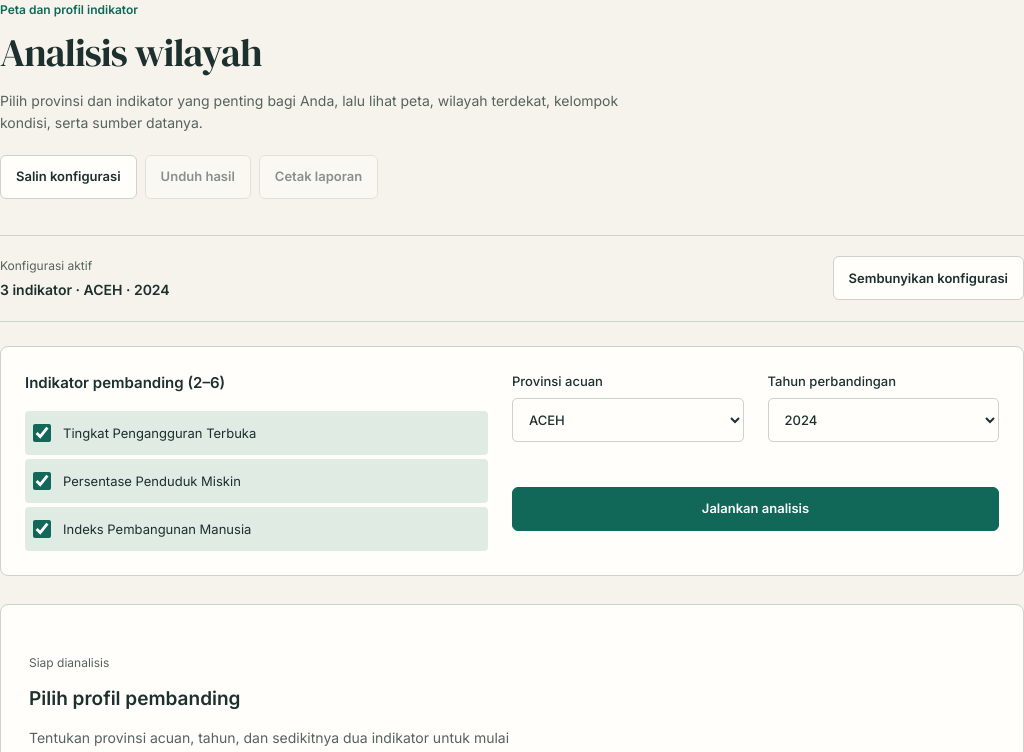
Test: RegionalAnalytics › renders a reproducible, accessible map and evidence report
What coordinates should you click on to do the following:
click the button "Jalankan analisis"
I would click on:
 (756, 509)
Its box is [512,487,999,531].
(page scrolled)
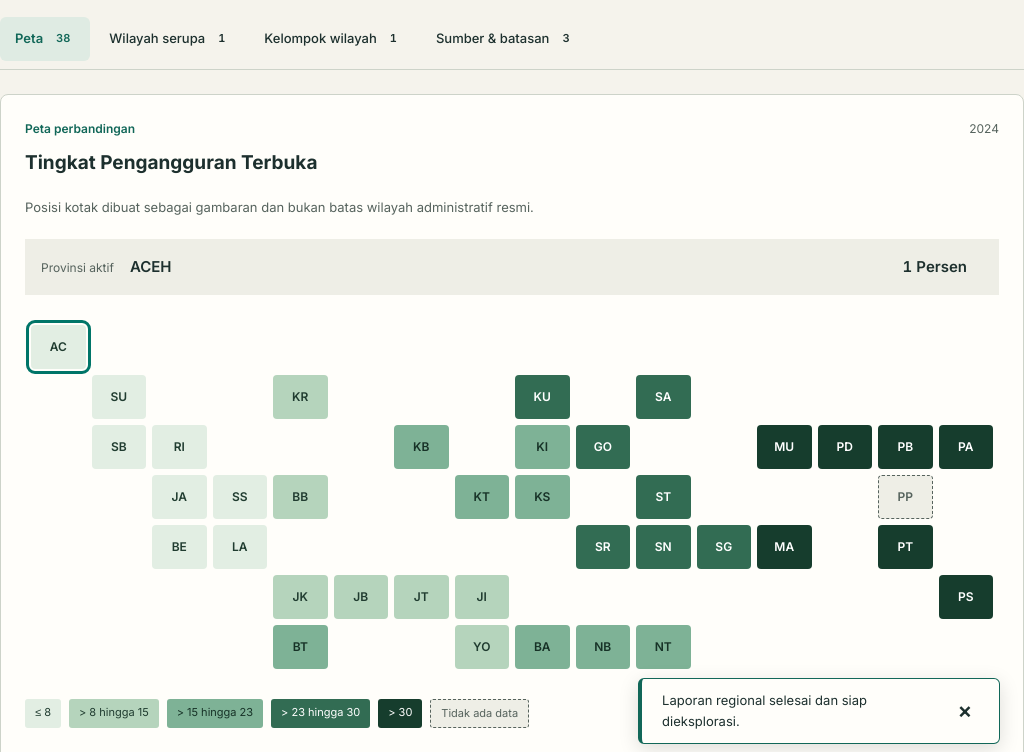
Check: the text "bukan batas wilayah administratif resmi" is shown, box [25,199,534,215]
What coordinates should you click on to do the following:
click the button with aria-label "PROVINSI 2, 2 Persen"
I would click on:
 (119, 396)
Its box is [92,374,146,418].
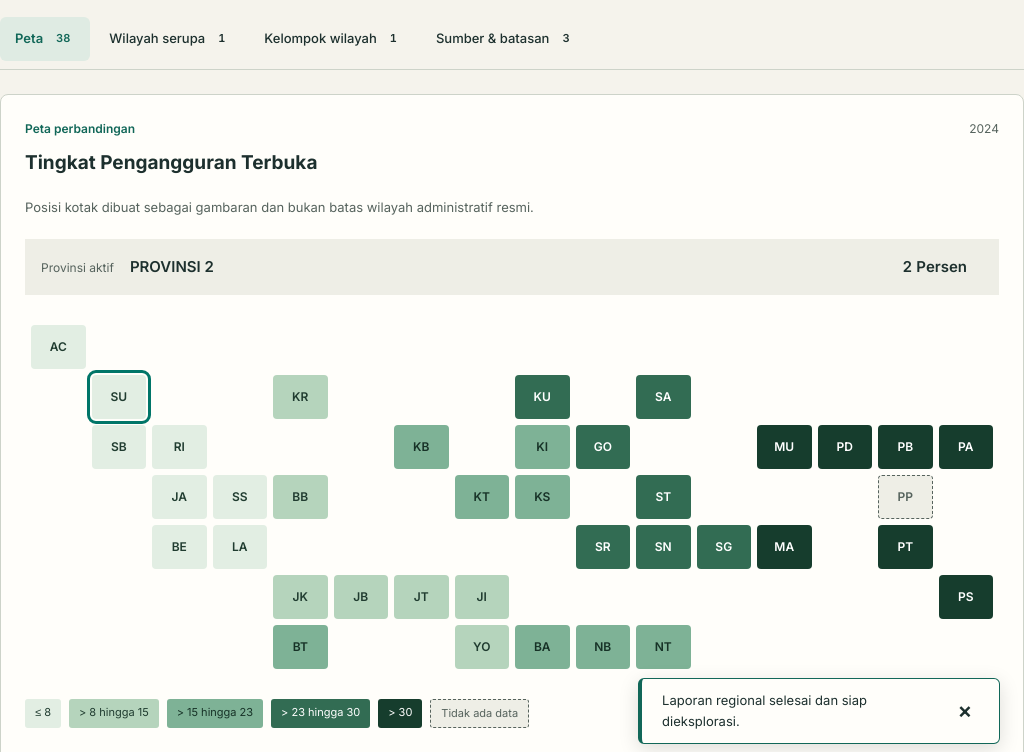
What coordinates should you click on to do the following:
click the tab "Wilayah serupa 1"
I would click on:
 (170, 39)
Its box is [94,17,245,61].
(page scrolled)
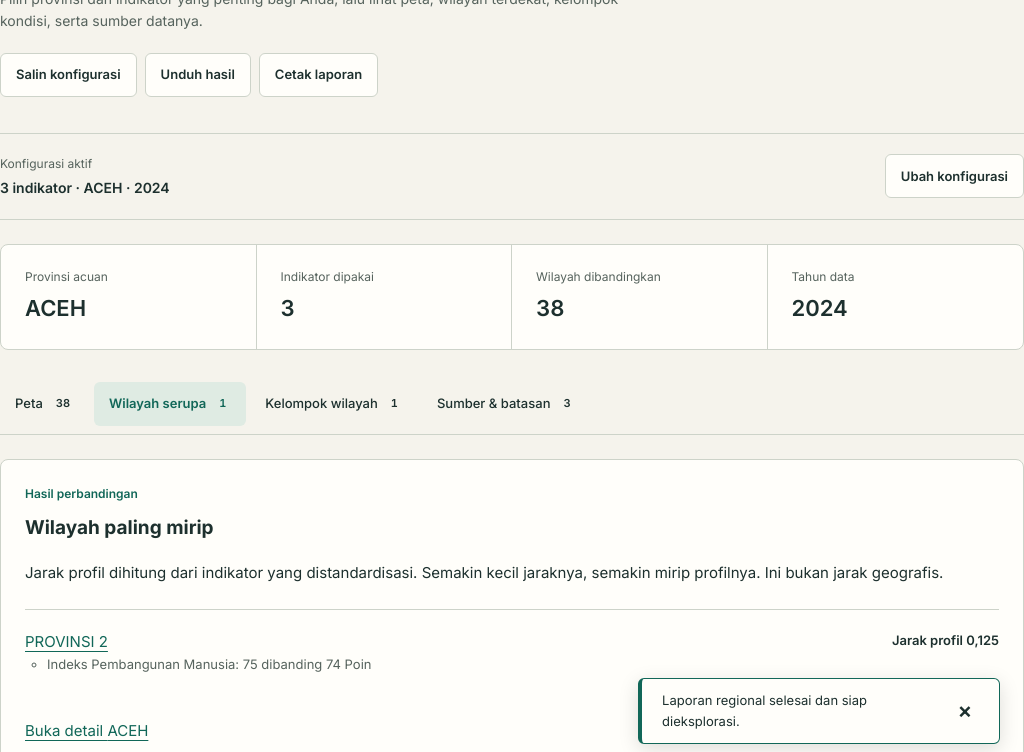
Check: the text "Jarak profil 0,125" is shown, box [892,630,999,654]
What coordinates should you click on to do the following:
click the tab "Kelompok wilayah 1"
I would click on:
 (334, 404)
Its box is [250,382,418,426].
(page scrolled)
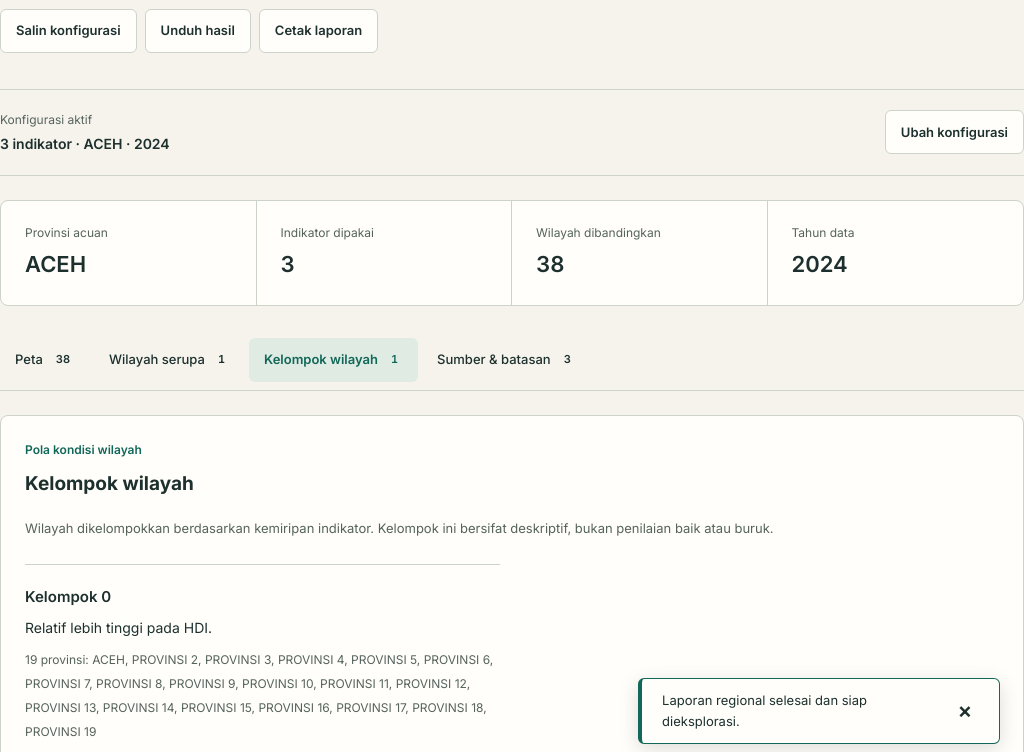
Check: the text "Kelompok ini bersifat deskriptif" is shown, box [25,520,774,536]
Check: the text "Relatif lebih tinggi pada HDI." is shown, box [25,618,212,636]
